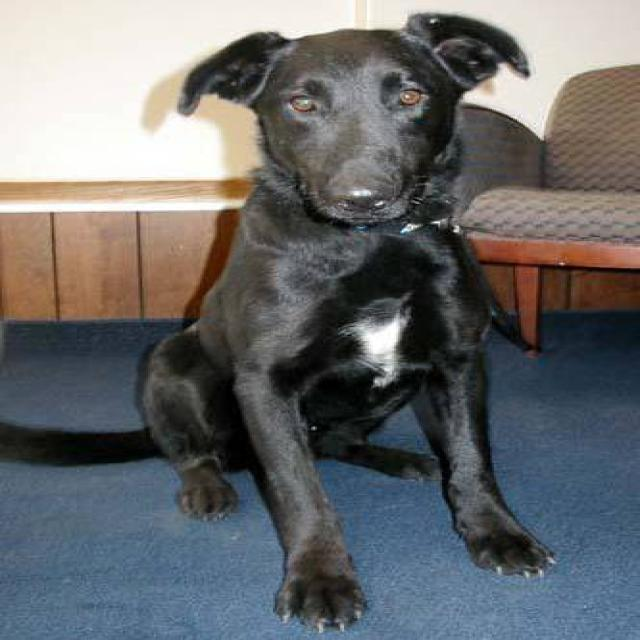dog: (0, 10, 557, 633)
